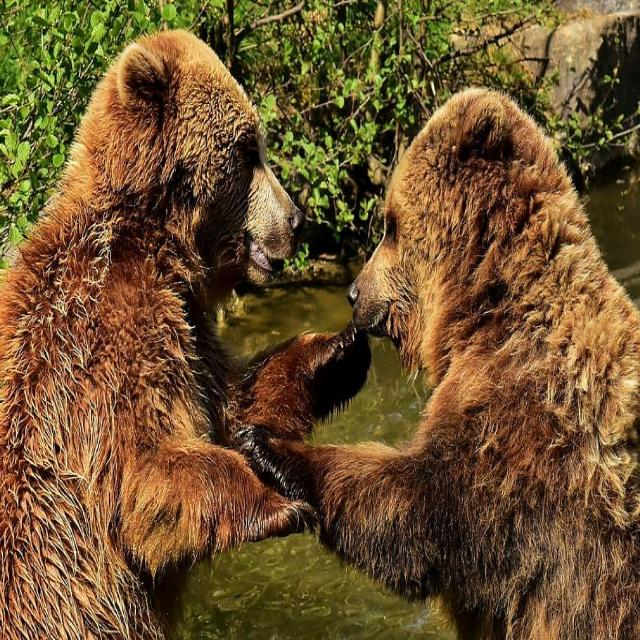Bear: (241, 89, 640, 640), (0, 30, 315, 640)
